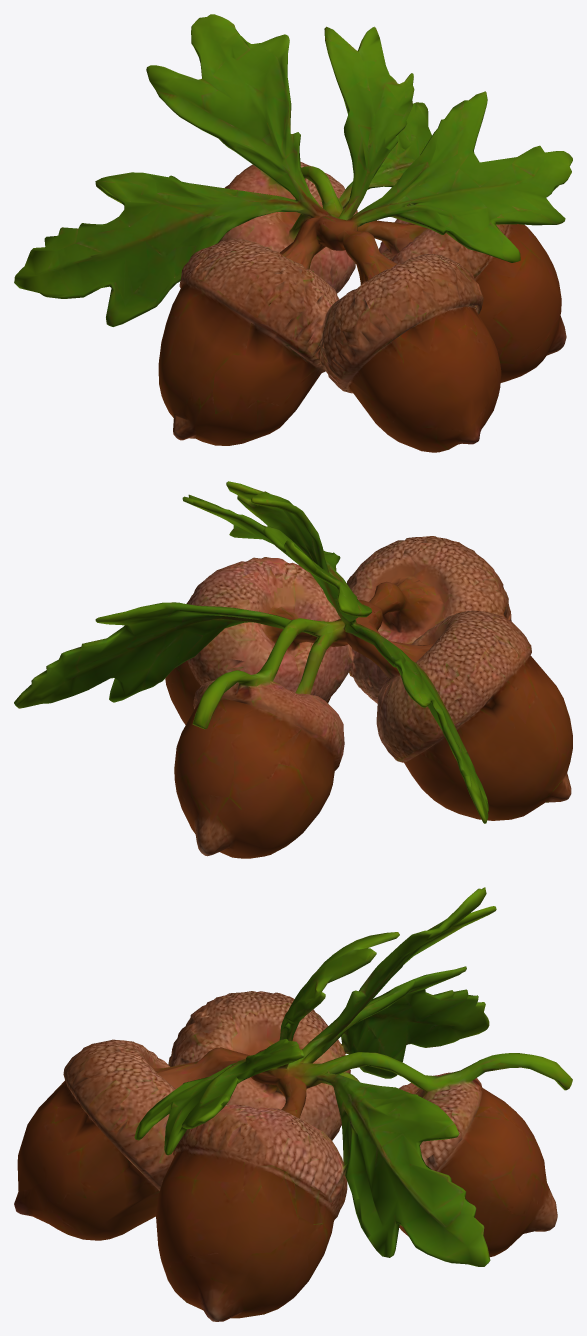
The model's file is prop-acorn-cluster.glb.
The picture shows the model from 3 angles, top to bottom: view 1: azimuth 30°, elevation 25°; view 2: azimuth 150°, elevation 25°; view 3: azimuth 270°, elevation 25°; orthographic projection. The views are drawn at different scales.
Size of the model in its own units: 1.91 by 1.28 by 1.88.
1 material, 1 textured.
